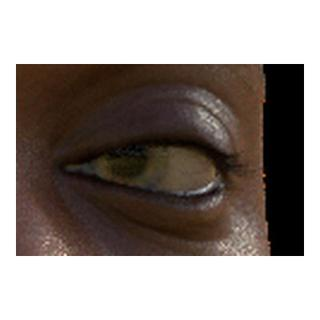pupil: (109, 140, 145, 177)
